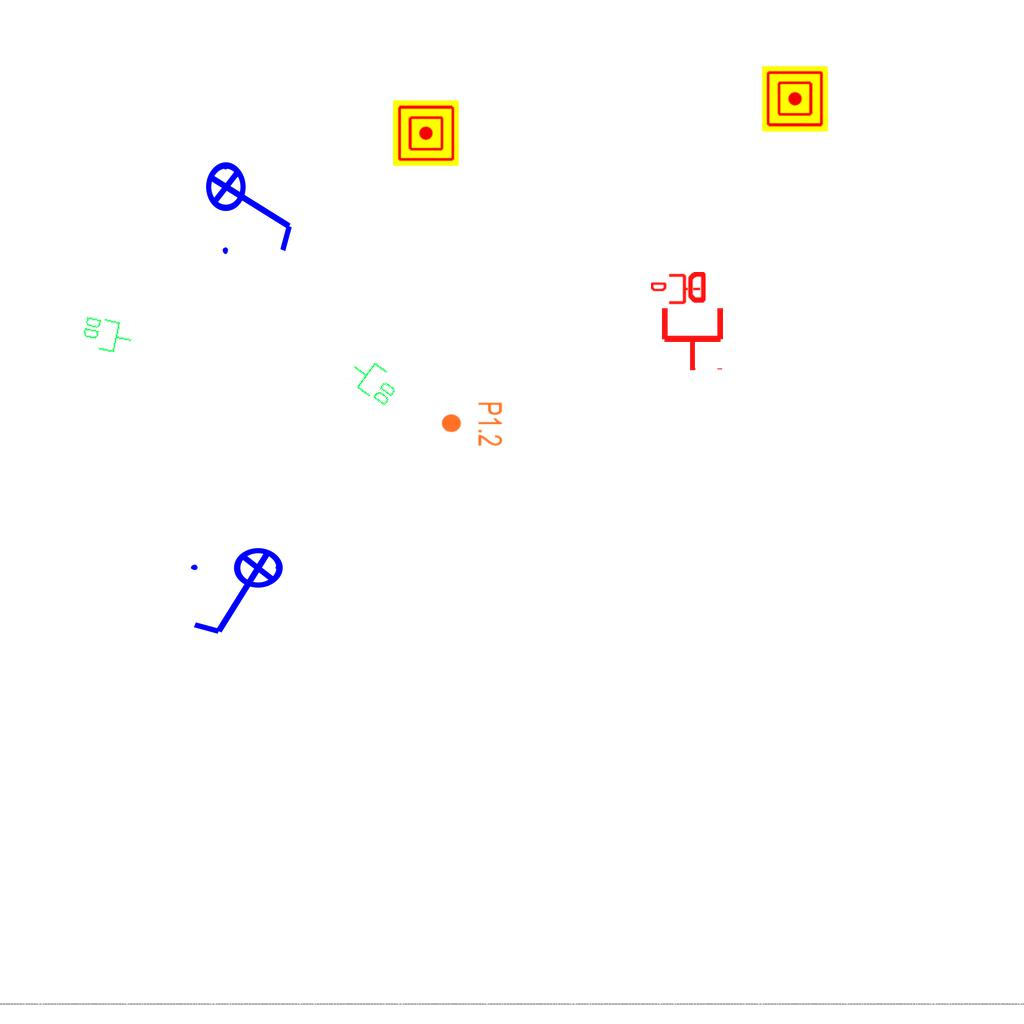Ausschalter_beleuchtet: (185, 546, 297, 642), (204, 148, 300, 260)
Datenanschluss_einfach: (658, 272, 727, 372), (651, 272, 701, 306)
Datenanschluss_zweifach: (342, 352, 405, 410), (79, 313, 136, 357)
Downlight_LED_Einbauleuchten_Flur: (440, 401, 504, 447)
NAM-Nichtautomatischer_Melder: (393, 100, 459, 166), (762, 66, 828, 132)
